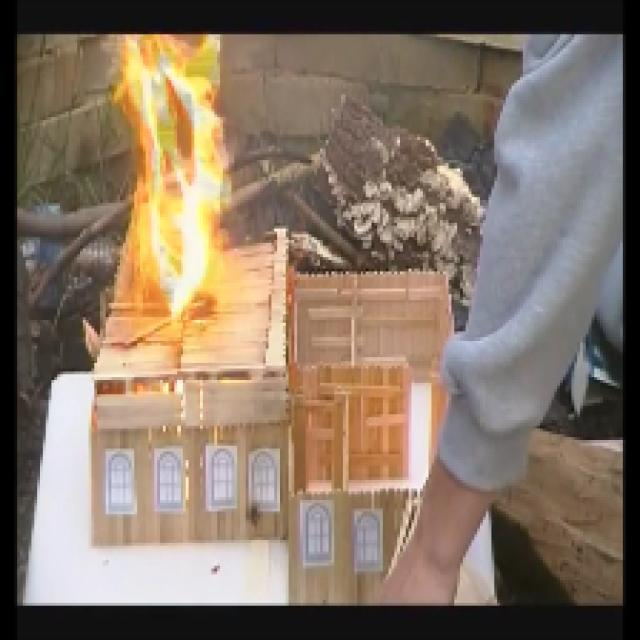fire: (109, 35, 239, 312)
